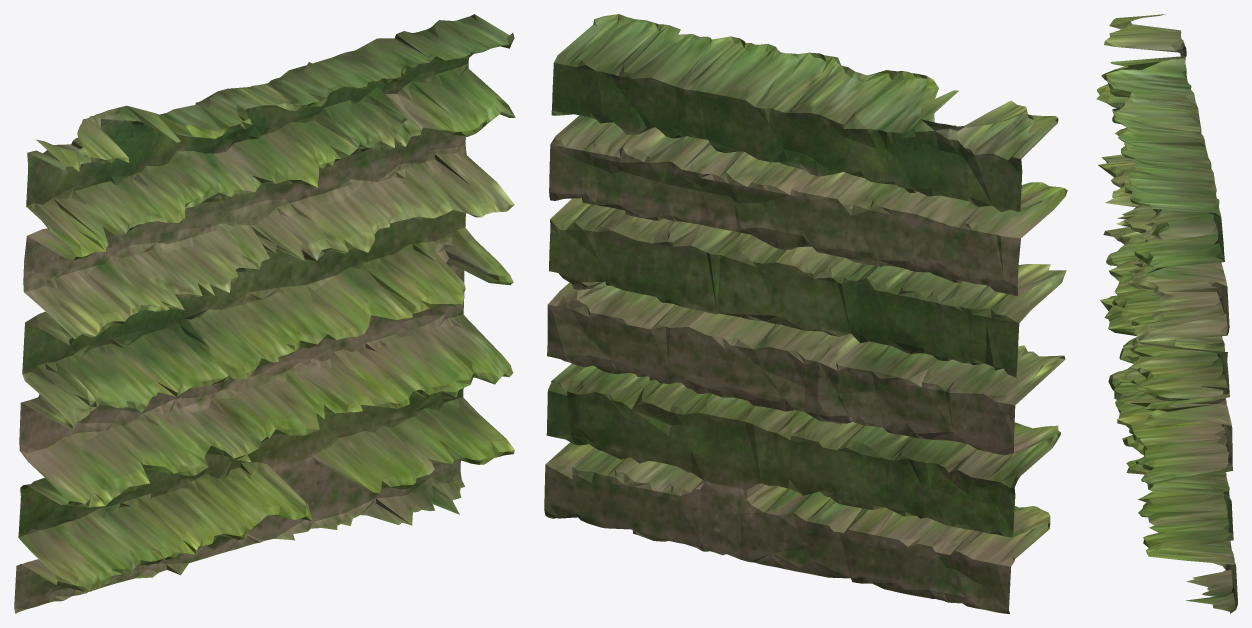
The model's file is map_70_70.obj.
3 views of the same model, side by side, from view 1: azimuth 30°, elevation 25°; view 2: azimuth 150°, elevation 25°; view 3: azimuth 270°, elevation 25° (orthographic). The views are drawn at different scales.
Parts seen in each view (by area): view 1: grp1; view 2: grp1; view 3: grp1.
Boxes of the visible parts, x1,y1,x2,y2 form: grp1: (14, 14, 515, 613); grp1: (544, 14, 1067, 613); grp1: (1096, 14, 1237, 613).
Size of the model in its own units: 10 by 10 by 3.14.
Materials: 1 (1 with a texture image).
